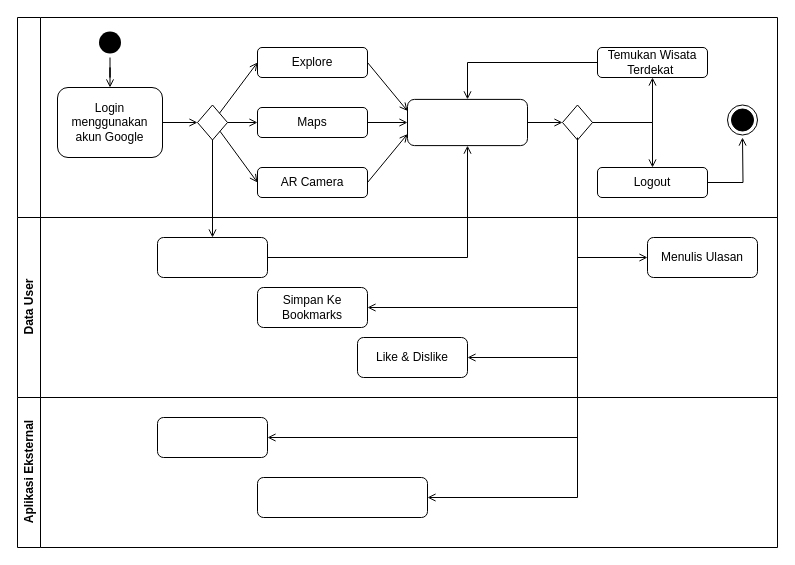
Some shapes in this 795 by 565 pixel diagram are drawn without their labels. The box of each missing label's shape, as (x1, y1, x2, y2) in pixels:
Bookmarks: (156, 236, 268, 278)
Buka Rute dengan Google Maps: (156, 416, 268, 458)
Menampilkan Detail Lokasi Wisata: (406, 98, 528, 146)
Post atau Share Informasi Wisata Platfrom Lain: (256, 476, 428, 518)
User: (16, 16, 778, 218)
